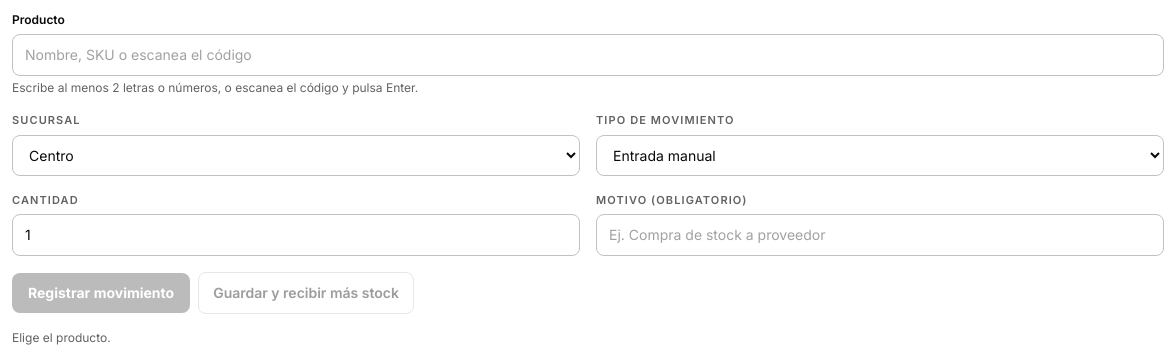
Test: picks the product by typing: no <select> of products, no 100-item preload
In the dropdown labelled "Producto": [588, 55] box [12, 34, 1164, 76], type "BD-3"
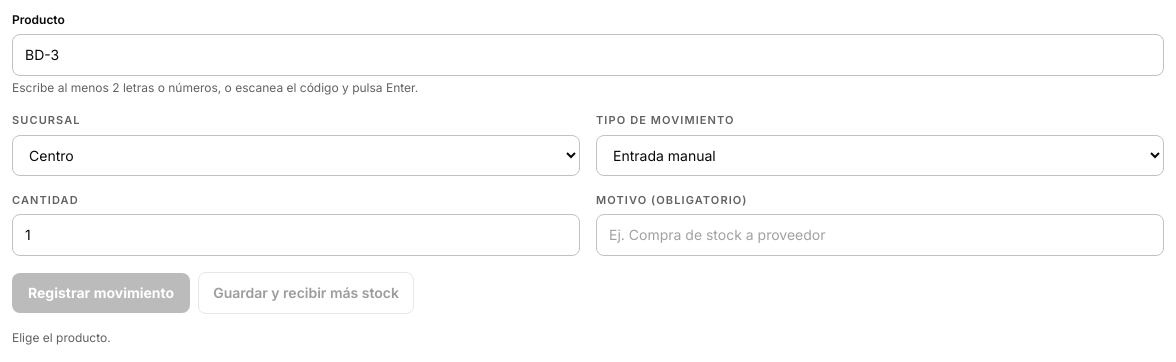
Press Enter in the dropdown labelled "Producto", box [12, 34, 1164, 76]
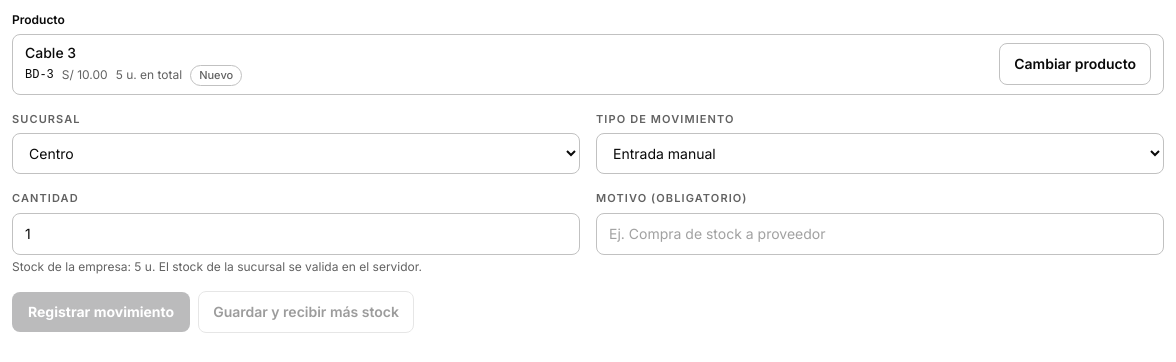
Expected: the text "Cable 3" is shown, [25, 44, 76, 61]
